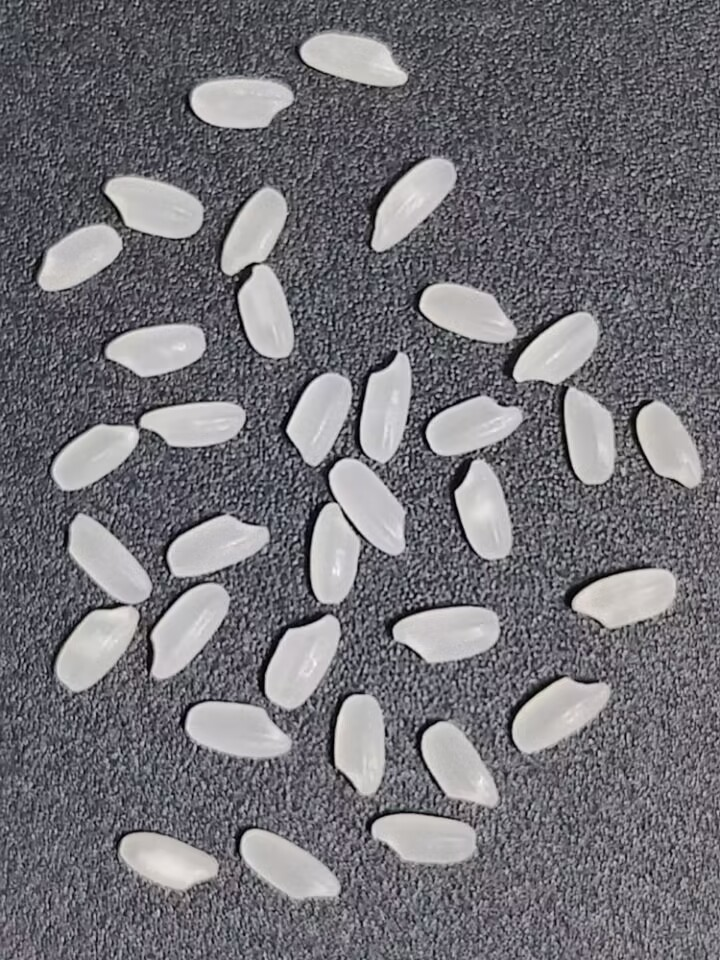rice: (138, 579, 237, 689), (58, 508, 156, 609), (326, 454, 414, 560), (174, 697, 294, 771), (161, 508, 275, 585), (261, 611, 345, 714), (370, 155, 456, 253), (567, 564, 684, 634), (420, 388, 532, 461), (384, 601, 502, 670), (279, 365, 355, 469), (511, 676, 611, 755), (448, 457, 519, 567), (53, 605, 141, 693), (506, 308, 606, 385), (46, 419, 143, 498), (412, 278, 521, 348), (629, 397, 709, 492), (356, 348, 418, 469), (241, 828, 340, 902), (301, 502, 365, 610), (100, 320, 211, 382), (134, 394, 249, 453), (421, 720, 498, 808), (562, 385, 626, 490), (233, 261, 298, 364), (103, 175, 204, 240), (219, 186, 288, 276), (300, 32, 409, 88), (37, 224, 123, 292), (119, 832, 220, 889), (332, 692, 386, 797), (371, 813, 477, 866), (191, 78, 294, 130)
